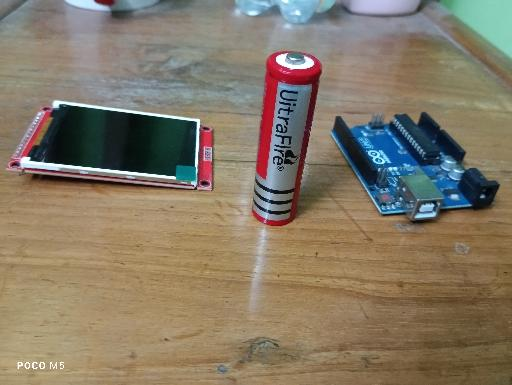Arduino: (328, 110, 500, 222)
Battery: (251, 51, 323, 227)
Display: (5, 99, 214, 193)
